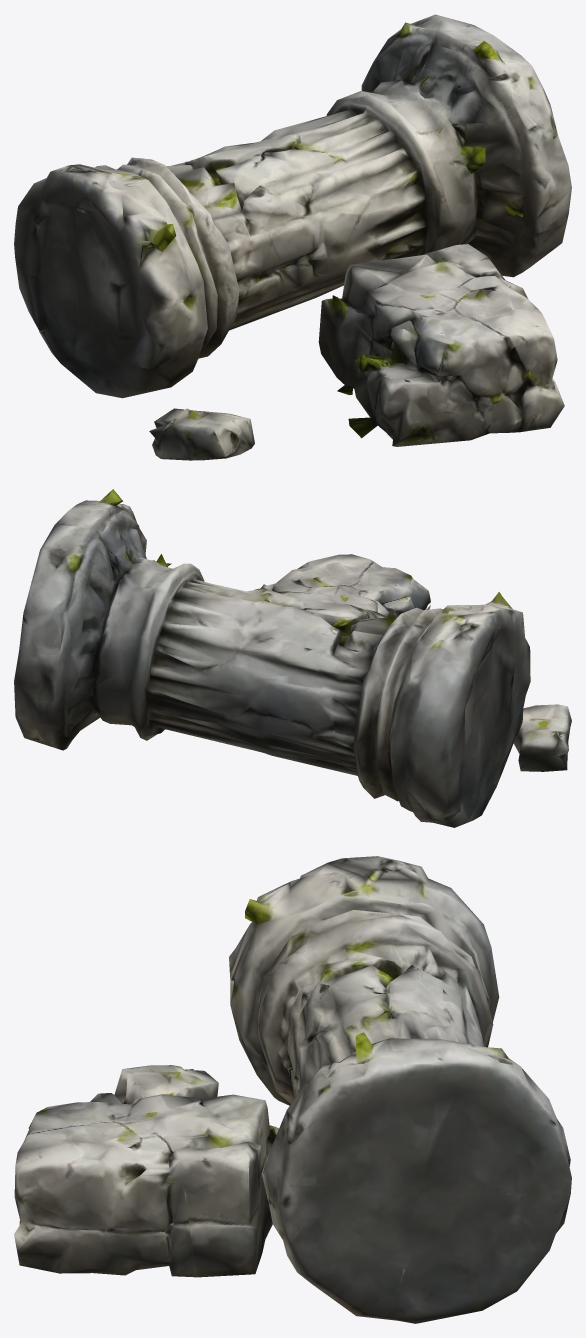
File: col_broken.glb
3 views of the same model, one above another, from view 1: azimuth 30°, elevation 25°; view 2: azimuth 150°, elevation 25°; view 3: azimuth 270°, elevation 25° (orthographic). The views are drawn at different scales.
Parts seen in each view (by area): view 1: tripo_node_0688d22b-432d-4993-82f5-ca37bfedf415; view 2: tripo_node_0688d22b-432d-4993-82f5-ca37bfedf415; view 3: tripo_node_0688d22b-432d-4993-82f5-ca37bfedf415.
Part boxes in pixels (bbox=[...]): tripo_node_0688d22b-432d-4993-82f5-ca37bfedf415: bbox=[14, 14, 571, 460]; tripo_node_0688d22b-432d-4993-82f5-ca37bfedf415: bbox=[14, 489, 571, 827]; tripo_node_0688d22b-432d-4993-82f5-ca37bfedf415: bbox=[14, 856, 571, 1323].
Size of the model in its own units: 0.9999 by 0.5351 by 0.9179.
Materials: 1 (1 with a texture image).
